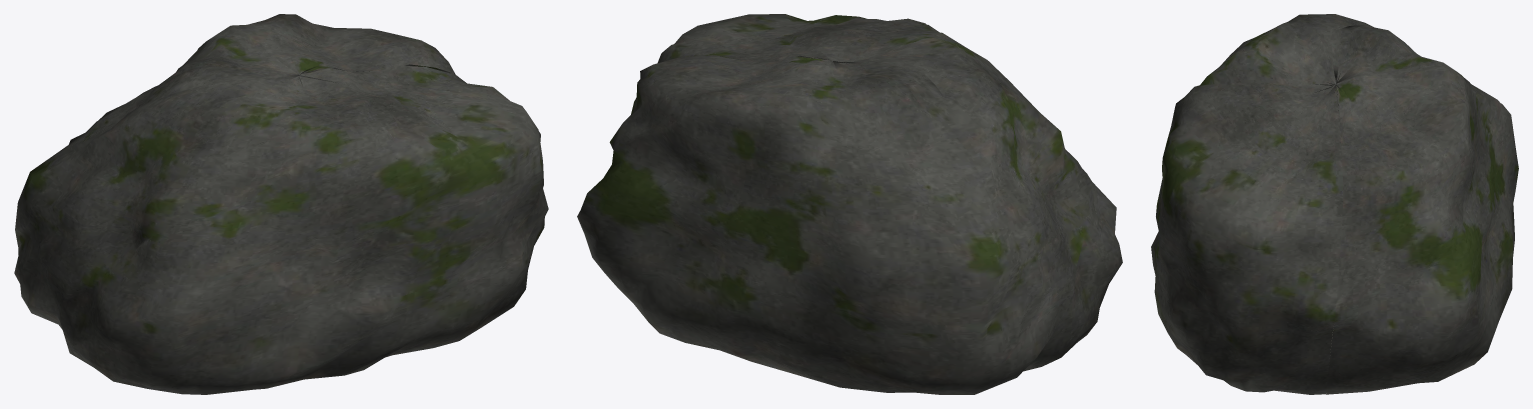
Rendered from boulder_lo.glb.
3 renders of one model, left to right at view 1: azimuth 30°, elevation 25°; view 2: azimuth 150°, elevation 25°; view 3: azimuth 270°, elevation 25°, orthographic. The views are drawn at different scales.
Parts seen in each view (by area): view 1: Moss boulder • Game LOD1; view 2: Moss boulder • Game LOD1; view 3: Moss boulder • Game LOD1.
Boxes of the visible parts, x1,y1,x2,y2 form: Moss boulder • Game LOD1: (14, 14, 548, 394); Moss boulder • Game LOD1: (577, 14, 1122, 394); Moss boulder • Game LOD1: (1151, 14, 1518, 394).
Size of the model in its own units: 2.72 by 1.48 by 1.96.
1 material, 1 textured.
